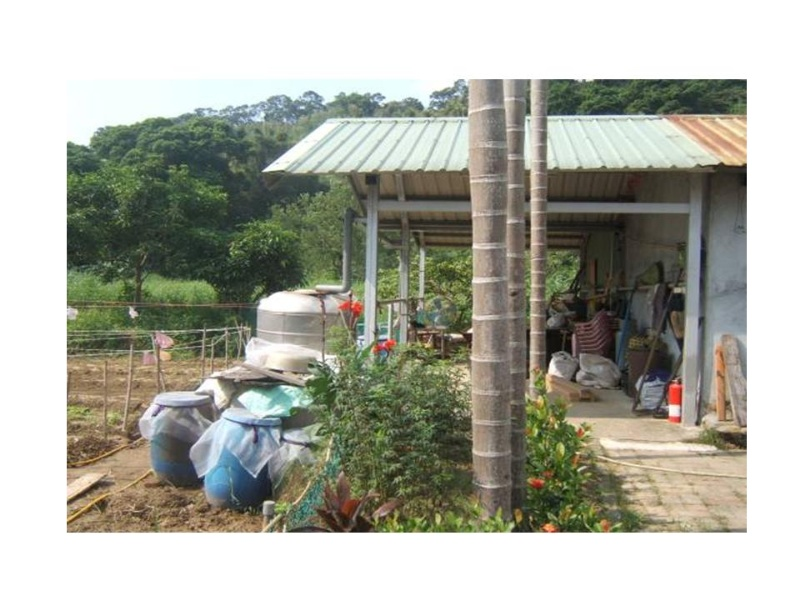bowl: (262, 349, 309, 373)
bucket: (203, 406, 282, 511), (150, 390, 217, 491)
plastic_bag: (579, 352, 620, 390), (547, 351, 578, 377)
